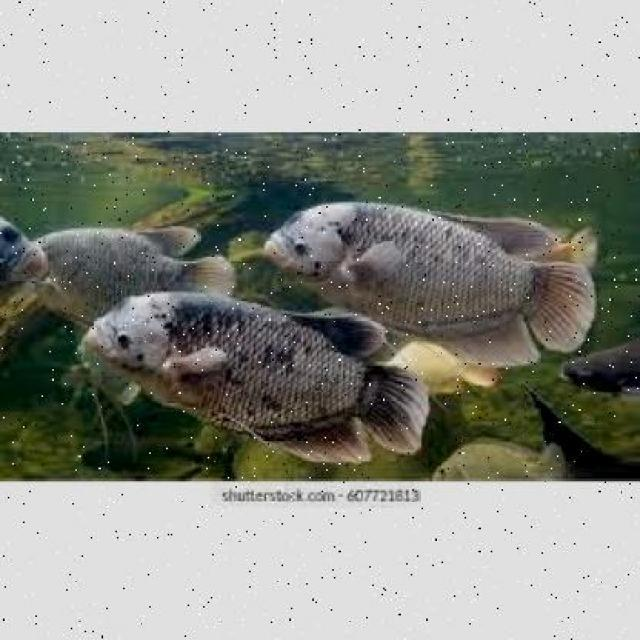gurame: (84, 290, 427, 461), (262, 198, 596, 359), (25, 229, 224, 322)
